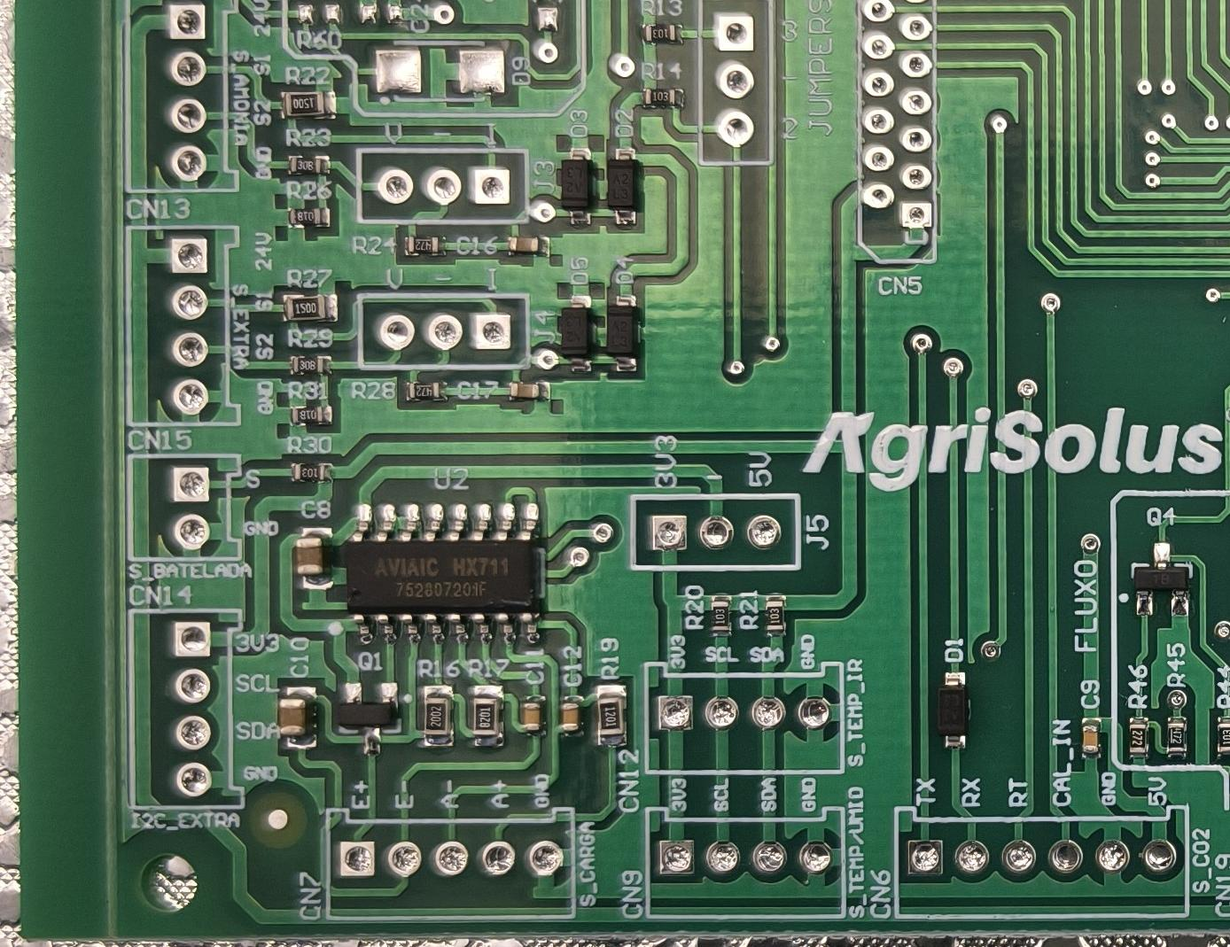C+: (293, 525, 337, 599), (277, 685, 320, 749), (503, 228, 548, 259), (561, 693, 588, 740), (518, 689, 546, 732), (507, 376, 548, 403), (1083, 715, 1104, 762)
R+: (465, 683, 511, 750), (419, 684, 455, 749), (281, 288, 341, 324), (280, 89, 341, 120), (1162, 709, 1190, 768), (597, 684, 623, 747), (284, 455, 338, 485), (399, 373, 447, 405), (636, 83, 687, 113), (640, 22, 691, 52), (400, 232, 448, 262), (288, 403, 337, 430), (708, 587, 735, 635), (763, 591, 789, 639), (288, 152, 338, 176), (288, 351, 333, 377), (288, 202, 332, 227), (1126, 711, 1149, 758)
R/CFaltante: (293, 3, 345, 25)
U+: (343, 497, 552, 637)
